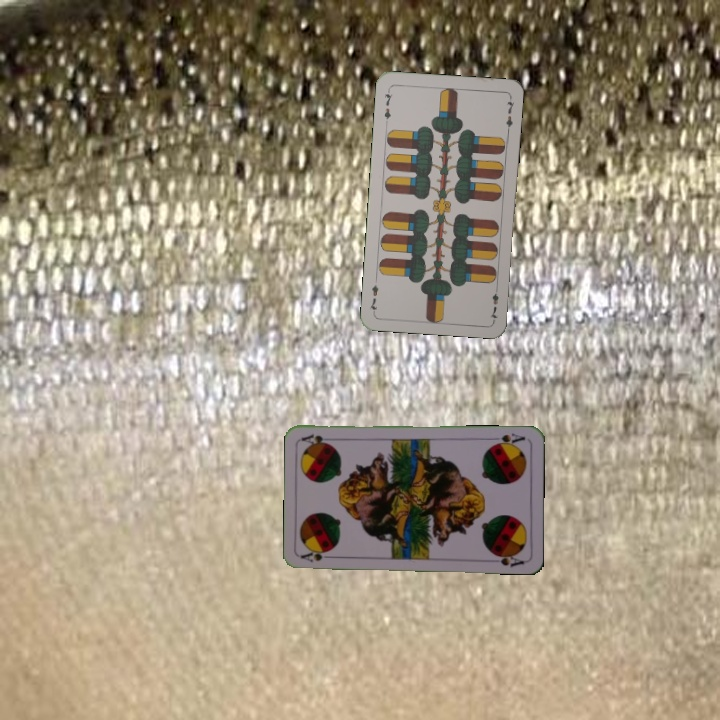E7: (380, 86, 395, 126), (486, 282, 501, 322)
SA: (488, 429, 528, 449), (298, 547, 338, 564)
